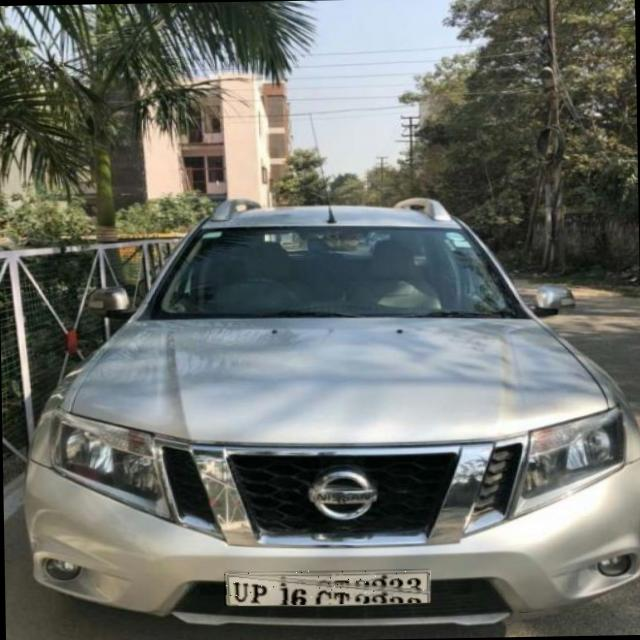Plate: (224, 569, 431, 607)
